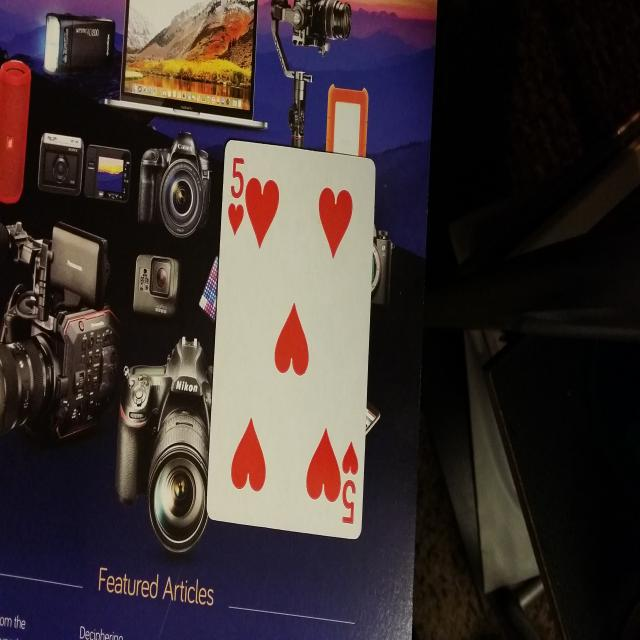5h: (333, 430, 362, 529), (220, 150, 250, 243)
